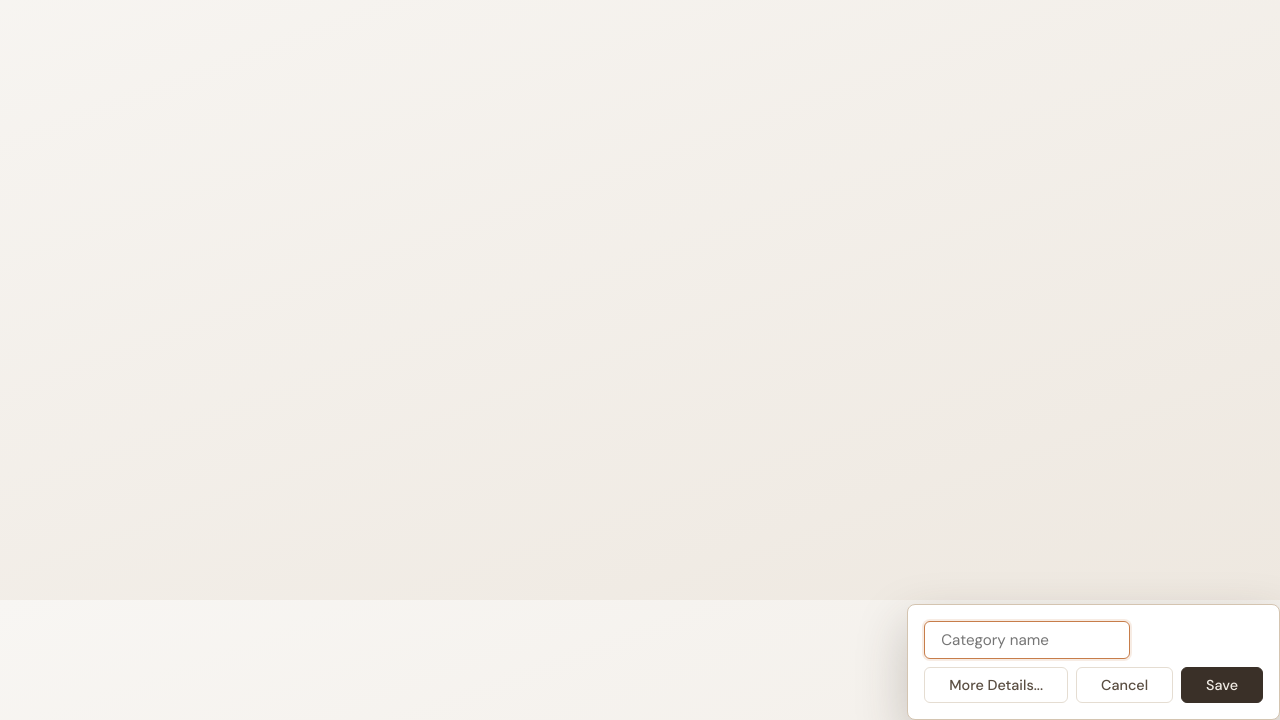
Test case: QuickCreatePopover › should show validation error when Save clicked with empty name
The image size is (1280, 720).
(page scrolled)
Click the button "Save". click: point(1222, 685)
box: x1=1181 y1=667 x2=1263 y2=703
(page scrolled)
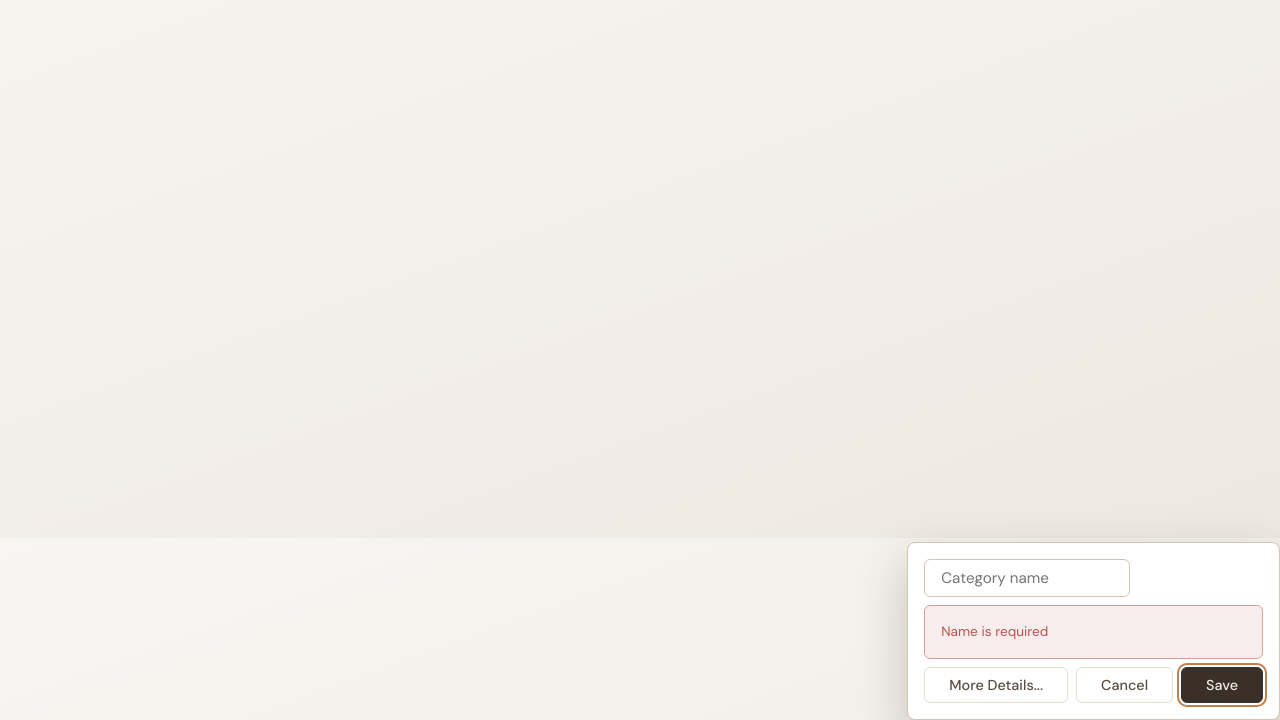
Expected: the message reads "Name is required", x1=941 y1=623 x2=1048 y2=640
